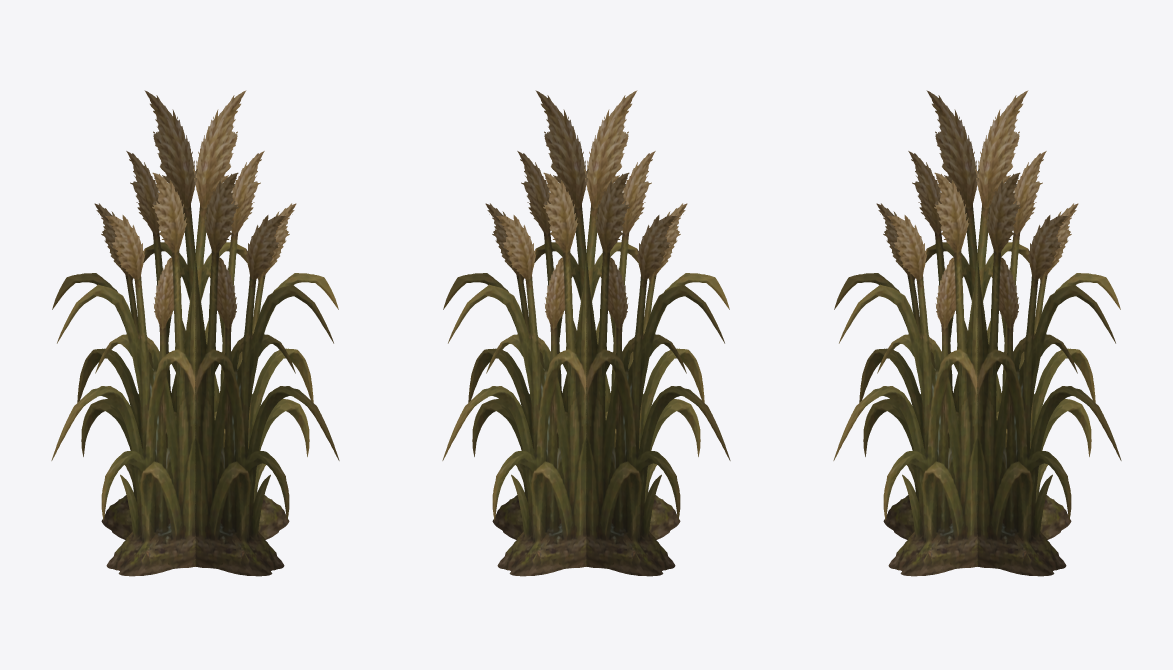
The model's file is roseaux_cards.glb.
The picture shows the model from 3 angles, left to right: view 1: azimuth 30°, elevation 25°; view 2: azimuth 150°, elevation 25°; view 3: azimuth 270°, elevation 25°; orthographic projection.
Visible parts, largest first — view 1: roseaux_cards; view 2: roseaux_cards; view 3: roseaux_cards.
Part boxes in pixels (x1=…): roseaux_cards: x1=51, y1=90, x2=339, y2=576; roseaux_cards: x1=442, y1=90, x2=730, y2=576; roseaux_cards: x1=833, y1=90, x2=1121, y2=576.
Bounding box in the file's own units: 1.42 × 1.74 × 1.23.
Materials: 1 (1 with a texture image).
